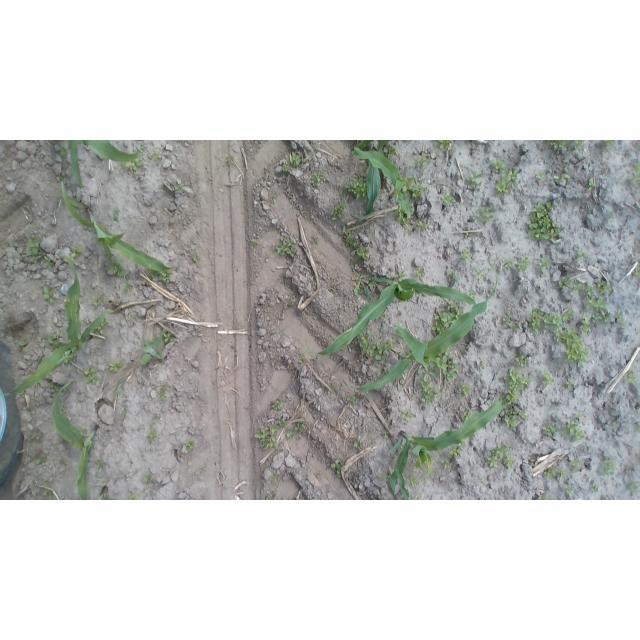Maize: (348, 276, 498, 392), (0, 257, 108, 400), (300, 277, 476, 356), (386, 400, 502, 501), (59, 181, 174, 272), (51, 378, 100, 500), (350, 141, 412, 223), (68, 140, 142, 188), (353, 277, 369, 296), (94, 484, 110, 500)
Weeds: (557, 274, 611, 322), (526, 201, 563, 246), (501, 369, 528, 427), (560, 328, 591, 362), (432, 302, 462, 337), (530, 309, 575, 331), (358, 334, 391, 360), (483, 444, 514, 469), (140, 336, 165, 366), (434, 356, 459, 381), (103, 257, 129, 277), (255, 427, 277, 449), (343, 181, 368, 200), (560, 421, 585, 440), (275, 237, 297, 257), (549, 140, 584, 152), (504, 257, 529, 272), (535, 172, 569, 182), (418, 364, 439, 380), (286, 422, 305, 439), (476, 207, 493, 224), (600, 457, 616, 475), (396, 175, 412, 192), (106, 359, 125, 372), (52, 140, 67, 156), (420, 388, 437, 402), (27, 237, 41, 254), (467, 171, 482, 186), (288, 152, 301, 169), (399, 205, 410, 225), (33, 250, 51, 262), (439, 193, 453, 208), (495, 179, 510, 193), (331, 460, 344, 476), (446, 270, 463, 282), (543, 467, 563, 477), (82, 366, 96, 380), (356, 245, 369, 260), (333, 204, 346, 219), (598, 281, 611, 296), (573, 246, 589, 258), (312, 171, 323, 188), (503, 317, 515, 332), (543, 423, 558, 435), (124, 159, 140, 170), (385, 143, 396, 159), (44, 286, 55, 302), (96, 319, 106, 336), (344, 234, 357, 247), (400, 412, 414, 424), (581, 319, 592, 333), (147, 429, 157, 444), (48, 334, 60, 346), (272, 399, 284, 411), (542, 373, 554, 385), (540, 254, 551, 267), (143, 474, 156, 485), (614, 311, 624, 325), (116, 379, 124, 396), (112, 207, 121, 222), (458, 383, 470, 394), (493, 160, 504, 172), (460, 249, 471, 261), (624, 480, 636, 491), (507, 170, 517, 183), (159, 271, 169, 284), (157, 386, 167, 399), (440, 459, 453, 469), (266, 475, 282, 483), (438, 140, 452, 149), (58, 455, 69, 466), (592, 313, 602, 325), (412, 186, 422, 198), (417, 157, 429, 167), (515, 356, 527, 366), (417, 220, 427, 231), (71, 248, 82, 258), (353, 438, 363, 449), (192, 251, 201, 263), (631, 159, 640, 171), (124, 280, 132, 293), (275, 418, 285, 428), (164, 332, 173, 343), (448, 448, 460, 456), (518, 410, 528, 419), (96, 459, 105, 469), (152, 414, 161, 424), (226, 156, 235, 165), (422, 380, 431, 389), (38, 456, 47, 465), (410, 477, 418, 487), (347, 396, 357, 404), (627, 372, 635, 382), (565, 379, 574, 387), (588, 181, 596, 190), (92, 298, 100, 307), (576, 414, 585, 422), (570, 459, 579, 467), (189, 439, 196, 449), (606, 140, 617, 146), (46, 489, 52, 500), (136, 144, 144, 152), (383, 431, 391, 439), (476, 476, 484, 484), (633, 171, 640, 180), (130, 493, 139, 500), (538, 493, 547, 500), (170, 184, 178, 191), (251, 238, 258, 246), (479, 364, 486, 372), (635, 267, 640, 278), (566, 485, 571, 496), (593, 485, 600, 492), (464, 233, 470, 240), (265, 495, 272, 500)
